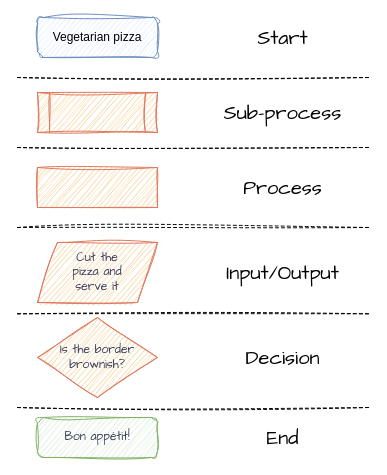
Image size: 387x475. Some labels were removed from this diagram. Each missing label, with the centre of its shape:
"2x paprika cut into cubes" goes at point (97, 187).
"Previous story" goes at point (97, 112).
